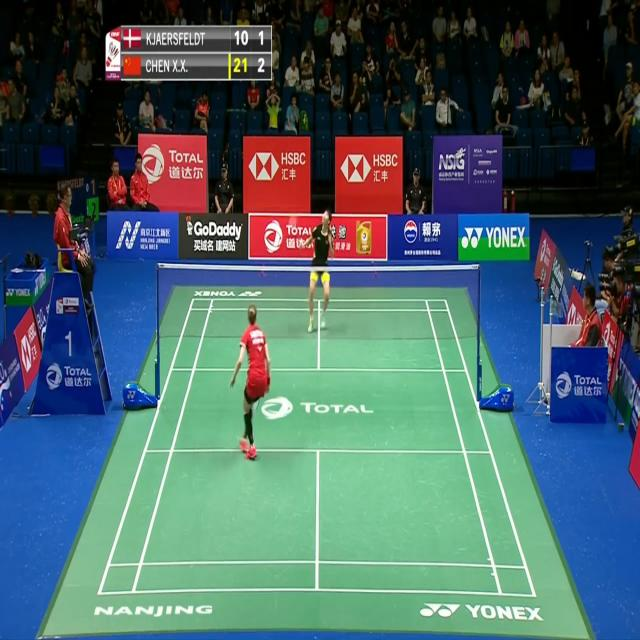Player1: (228, 301, 272, 467)
Player2: (298, 199, 336, 341)
